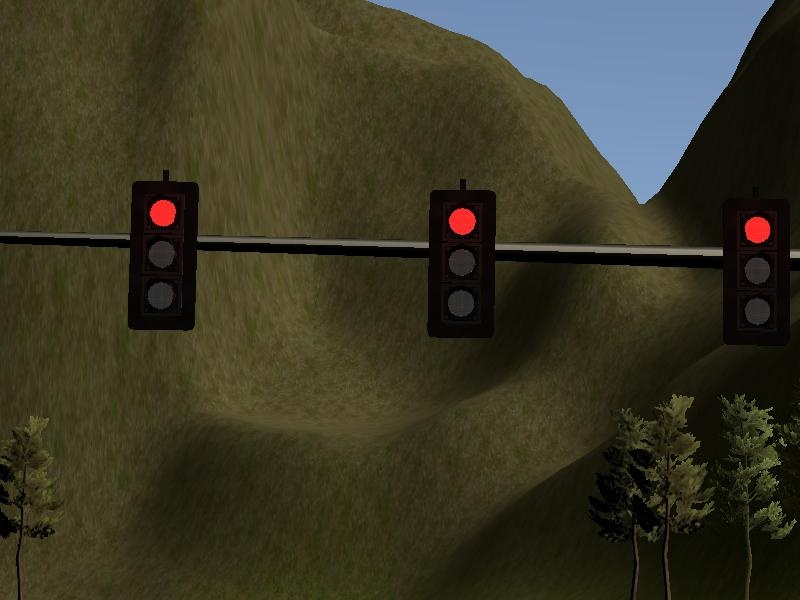RED: (126, 180, 198, 332), (427, 191, 499, 343), (722, 196, 791, 347)
